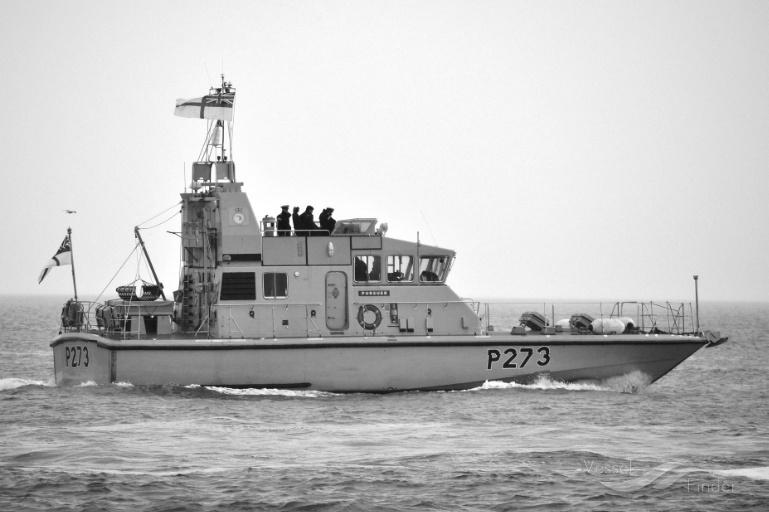OCR: (481, 346, 550, 377), (57, 340, 97, 373)
